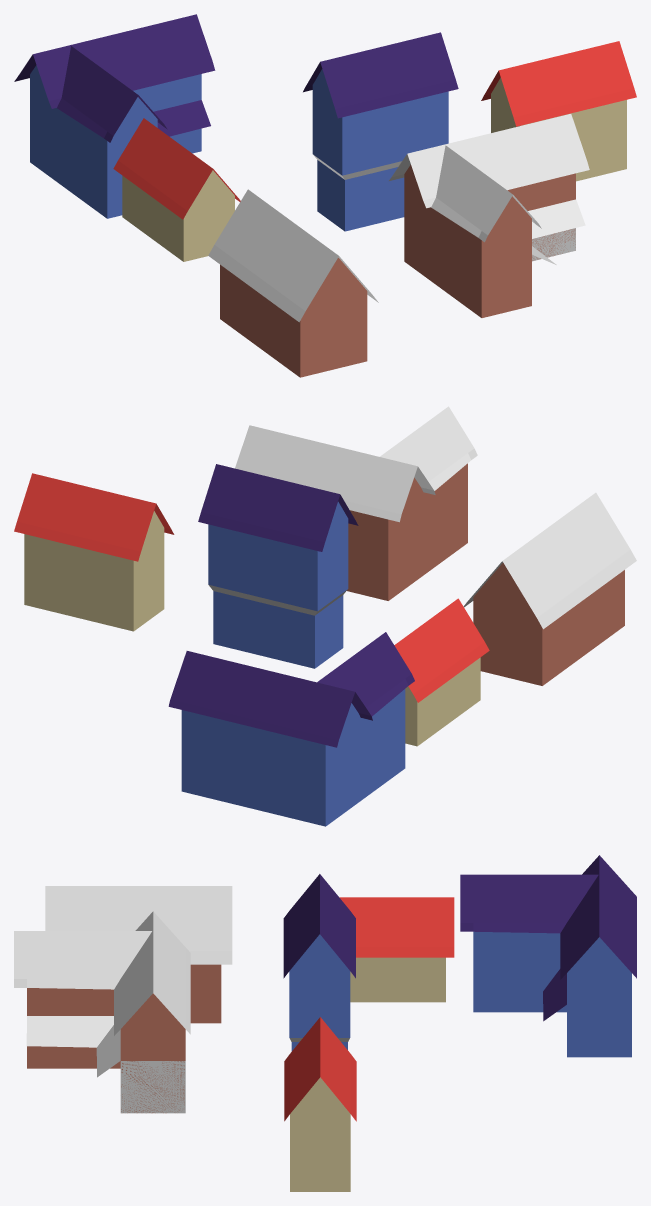
The model's file is city extras 3.fbx.
3 views of the same model, one above another, from view 1: azimuth 30°, elevation 25°; view 2: azimuth 150°, elevation 25°; view 3: azimuth 270°, elevation 25° (orthographic). The views are drawn at different scales.
Visible parts, largest first — view 1: Cube.006, Cube.001, Cube.004, Train House Station, Cube.005, Cube.002; view 2: Cube.001, Cube.004, Cube.006, Train House Station, Cube.005, Cube.002; view 3: Cube.001, Cube.006, Train House Station, Cube.002, Cube.005, Cube.004.
Boxes of the visible parts, x1,y1,x2,y2 form: Cube.006: (389, 114, 589, 317); Cube.001: (14, 14, 215, 218); Cube.004: (303, 32, 458, 231); Train House Station: (208, 189, 378, 377); Cube.005: (481, 41, 636, 181); Cube.002: (113, 118, 240, 261); Cube.001: (168, 632, 414, 826); Cube.004: (198, 464, 358, 668); Cube.006: (235, 406, 477, 600); Train House Station: (463, 492, 636, 685); Cube.005: (14, 473, 174, 631); Cube.002: (394, 598, 489, 746); Cube.001: (460, 855, 636, 1057); Cube.006: (14, 911, 190, 1113); Train House Station: (45, 886, 232, 1023); Cube.002: (339, 897, 454, 1002); Cube.005: (284, 1017, 356, 1191); Cube.004: (283, 874, 355, 1051).
Size of the model in its own units: 8102 by 3166 by 9390.
